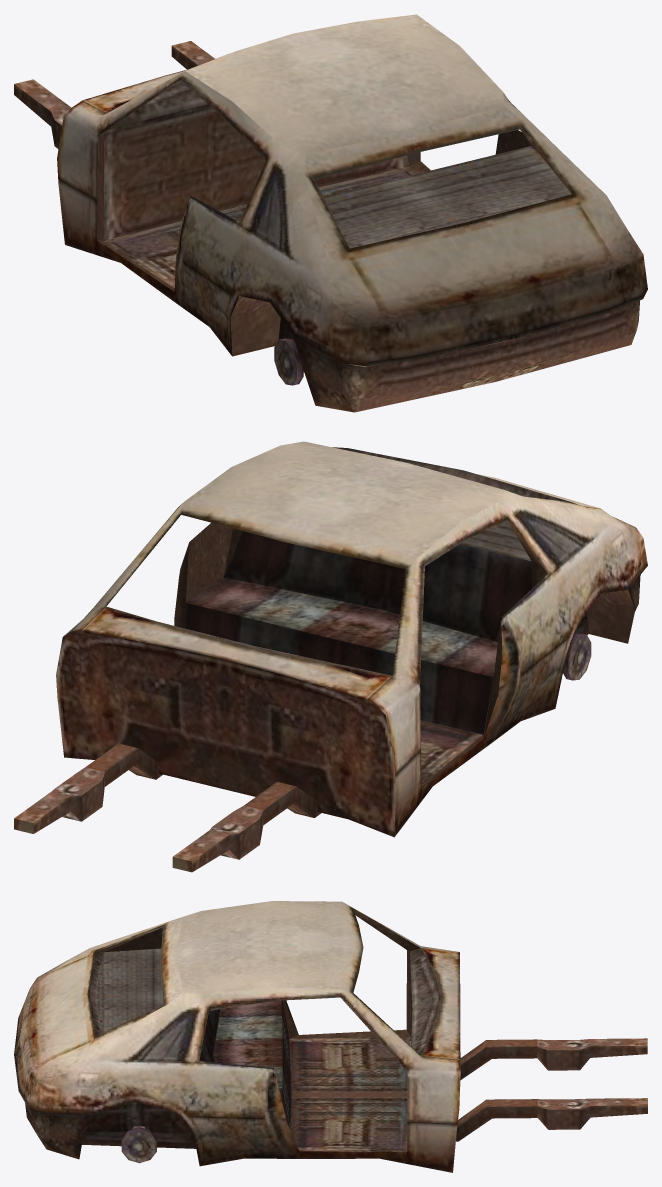
The model's file is p54_23_wreck_hatchback.glb.
The picture shows the model from 3 angles, top to bottom: view 1: azimuth 30°, elevation 25°; view 2: azimuth 150°, elevation 25°; view 3: azimuth 270°, elevation 25°; orthographic projection. The views are drawn at different scales.
Parts seen in each view (by area): view 1: Body; view 2: Body; view 3: Body.
Part boxes in pixels (box(x1,y1,x2,y2)): Body: box(14, 14, 647, 412); Body: box(14, 441, 647, 872); Body: box(14, 901, 647, 1172).
Size of the model in its own units: 2.02 by 1.27 by 4.24.
1 material, 1 textured.
